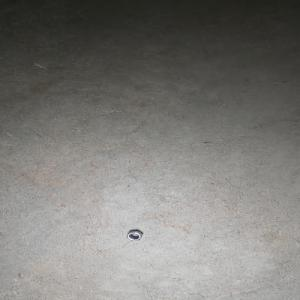Nut: (126, 230, 143, 241)
